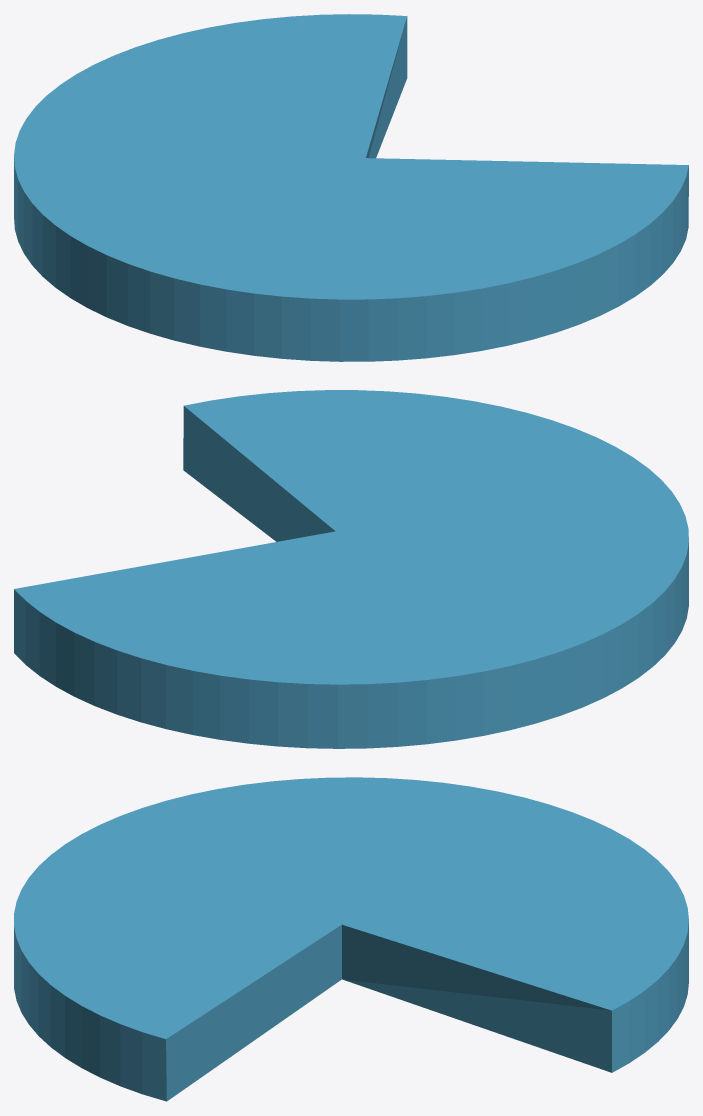
Rendered from floor1.fbx.
The picture shows the model from 3 angles, top to bottom: view 1: azimuth 30°, elevation 25°; view 2: azimuth 150°, elevation 25°; view 3: azimuth 270°, elevation 25°; orthographic projection. The views are drawn at different scales.
Visible parts, largest first — view 1: Cylinder; view 2: Cylinder; view 3: Cylinder.
Boxes of the visible parts, x1,y1,x2,y2 form: Cylinder: (14, 14, 688, 361); Cylinder: (14, 390, 688, 748); Cylinder: (14, 777, 688, 1101).
Bounding box in the file's own units: 325 × 36 × 354.
